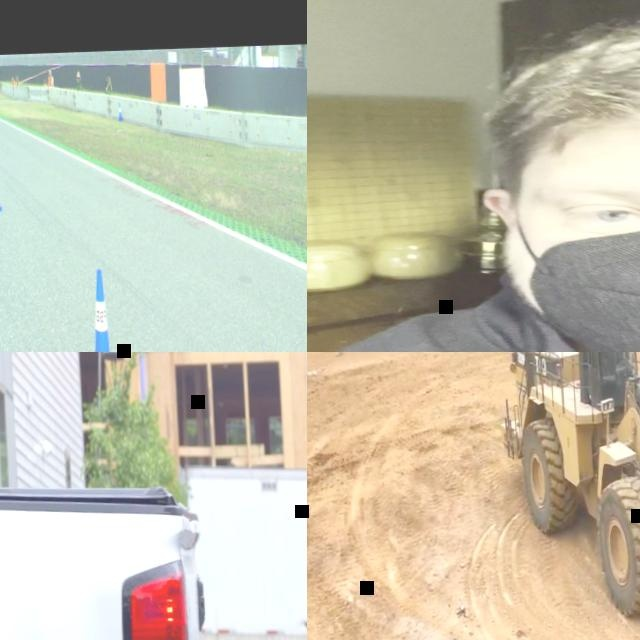Mask: (503, 192, 640, 352)
NO-Hardhat: (491, 1, 640, 170), (105, 70, 108, 76), (76, 73, 79, 78), (48, 70, 50, 75)
NO-Safety Vest: (105, 79, 111, 93), (76, 78, 81, 90)
Person: (307, 2, 640, 352), (598, 352, 614, 370), (104, 69, 111, 95), (75, 71, 81, 90), (46, 70, 53, 86), (13, 76, 19, 87), (42, 79, 47, 87), (10, 77, 13, 83)
Safety Cone: (82, 268, 117, 352), (117, 103, 121, 121)
Safety Vest: (47, 76, 52, 88), (10, 80, 14, 85), (43, 82, 46, 87)
machinery: (491, 352, 640, 640)
vehicle: (0, 470, 296, 640)
